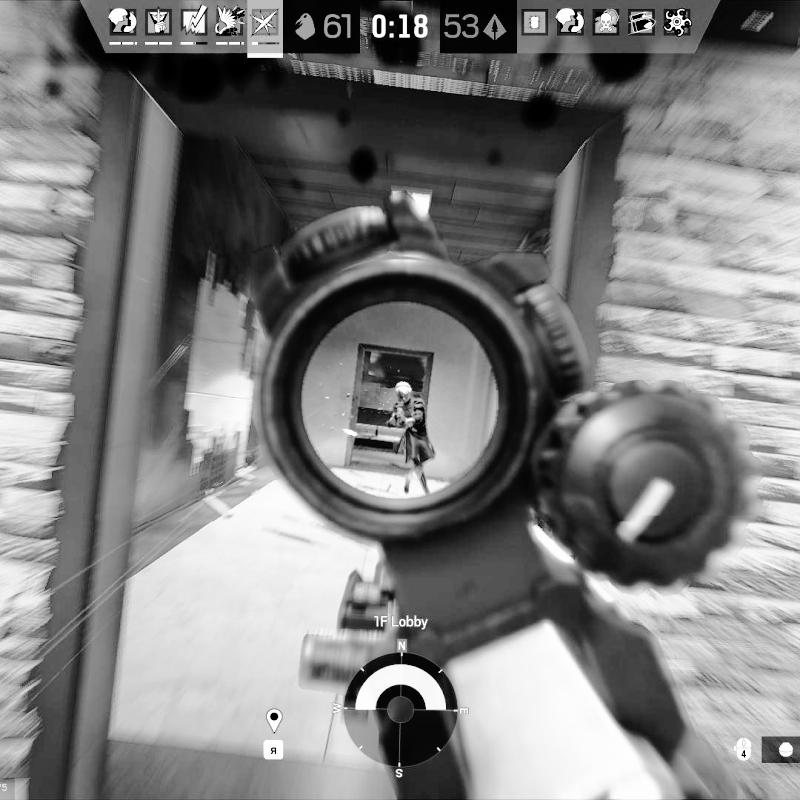Character: (384, 381, 438, 499)
Head: (394, 382, 412, 403)
